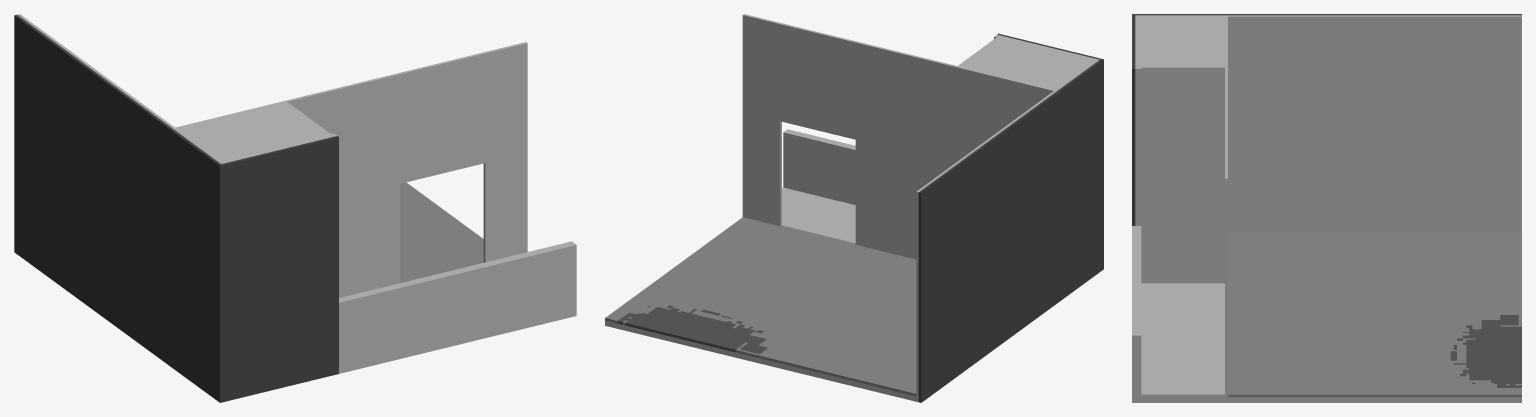
Rendered from 4x2 second (1)-4.obj.
3 views of the same model, side by side, from view 1: azimuth 30°, elevation 25°; view 2: azimuth 150°, elevation 25°; view 3: azimuth 270°, elevation 25° (orthographic). The views are drawn at different scales.
Parts seen in each view (by area): view 1: 4x2 second (1)-4; view 2: 4x2 second (1)-4; view 3: 4x2 second (1)-4.
Boxes of the visible parts, left/top/right/bottom form: 4x2 second (1)-4: left=14, top=14, right=576, bottom=402; 4x2 second (1)-4: left=605, top=14, right=1103, bottom=402; 4x2 second (1)-4: left=1132, top=14, right=1521, bottom=402.
Size of the model in its own units: 126 by 80 by 126.
1 material, 1 textured.
